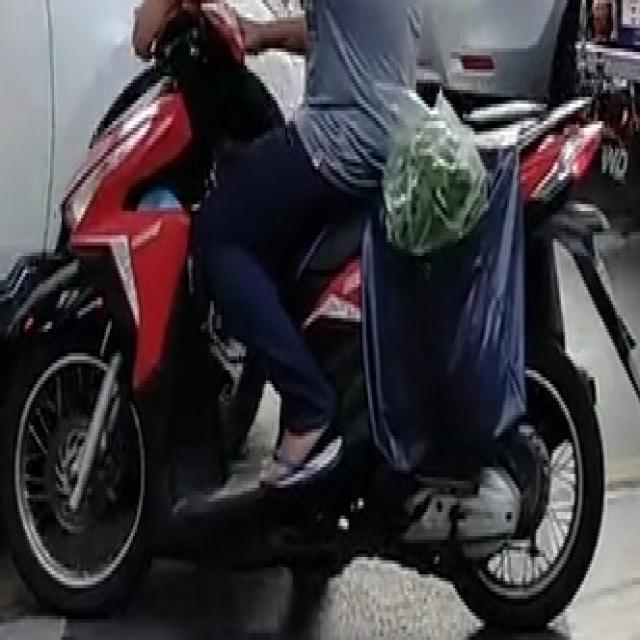door: (0, 0, 54, 280)
tyre: (448, 336, 606, 630), (0, 329, 156, 612)
